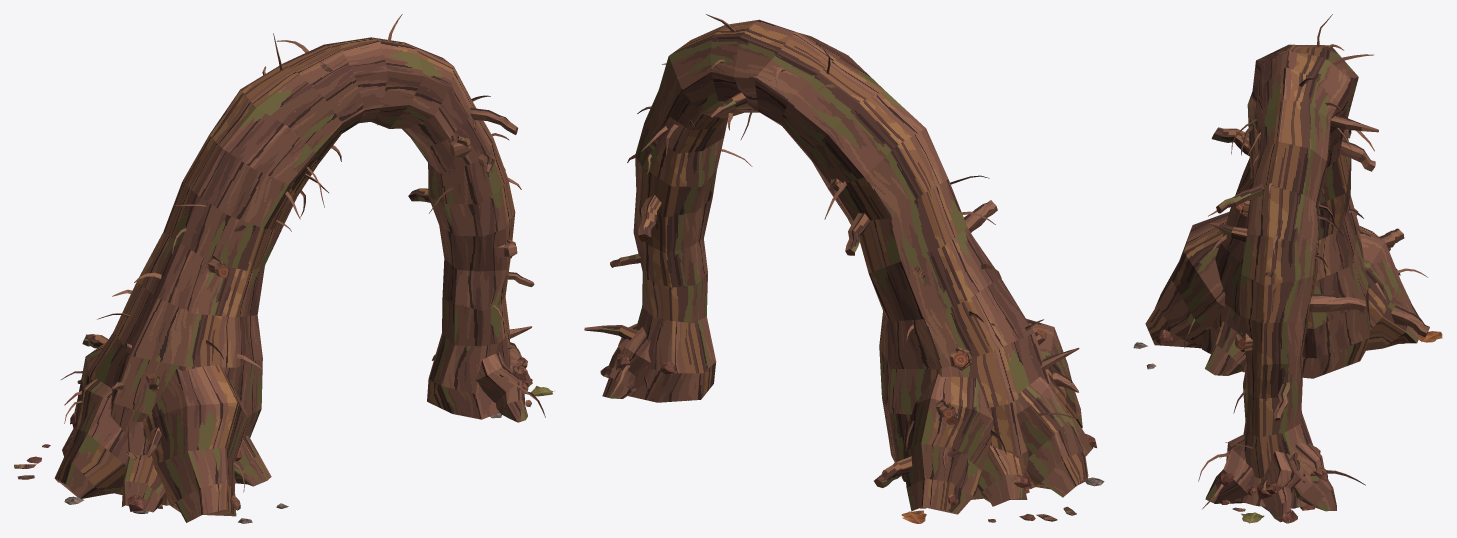
Rendered from SM_AN13_RootButtress.fbx.
3 views of the same model, side by side, from view 1: azimuth 30°, elevation 25°; view 2: azimuth 150°, elevation 25°; view 3: azimuth 270°, elevation 25° (orthographic). The views are drawn at different scales.
Visible parts, largest first — view 1: AN13a_Root, AN13a_Props; view 2: AN13a_Root, AN13a_Props; view 3: AN13a_Root, AN13a_Props.
Boxes of the visible parts, x1,y1,x2,y2 form: AN13a_Root: (54,14,545,522); AN13a_Props: (14,62,554,523); AN13a_Root: (584,14,1092,514); AN13a_Props: (600,43,1104,523); AN13a_Root: (1145,14,1429,522); AN13a_Props: (1133,47,1442,523).
Size of the model in its own units: 6.53 by 4.89 by 3.49.
